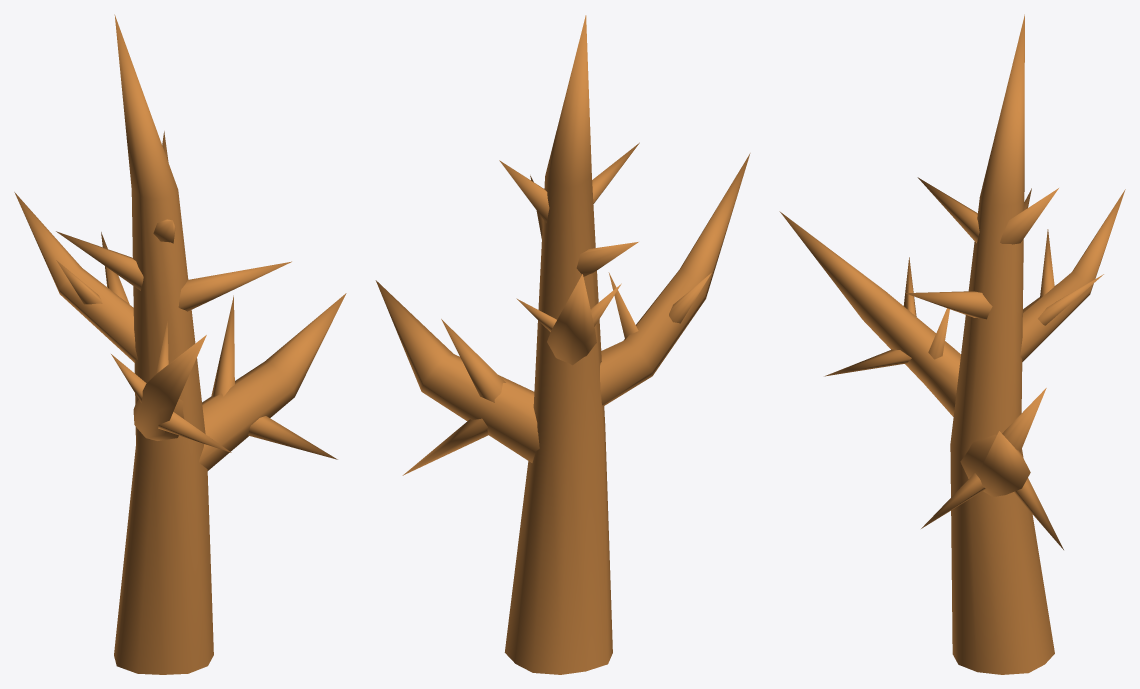
File: DeadTree.obj
3 views of the same model, side by side, from view 1: azimuth 30°, elevation 25°; view 2: azimuth 150°, elevation 25°; view 3: azimuth 270°, elevation 25° (orthographic). The views are drawn at different scales.
Parts seen in each view (by area): view 1: Circle_Circle.001; view 2: Circle_Circle.001; view 3: Circle_Circle.001.
Boxes of the visible parts, bbox=[...] form: Circle_Circle.001: bbox=[14, 14, 346, 674]; Circle_Circle.001: bbox=[375, 15, 750, 674]; Circle_Circle.001: bbox=[779, 14, 1125, 674].
Bounding box in the file's own units: 6.41 × 13.89 × 7.
